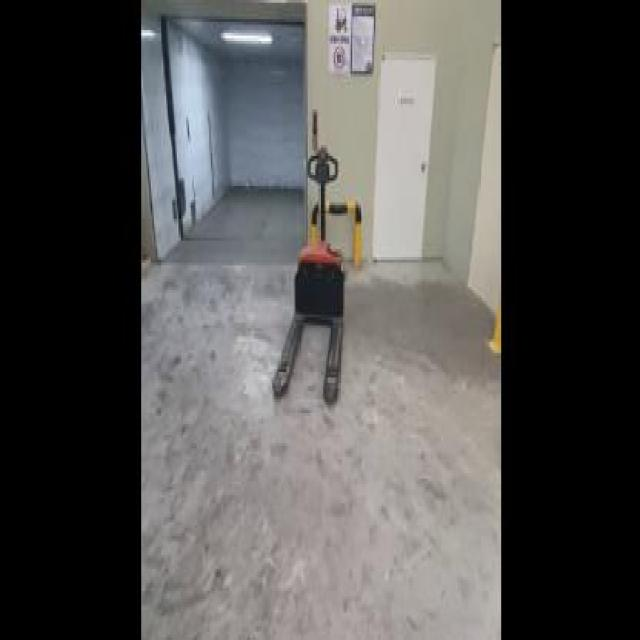robot: (270, 142, 344, 405)
